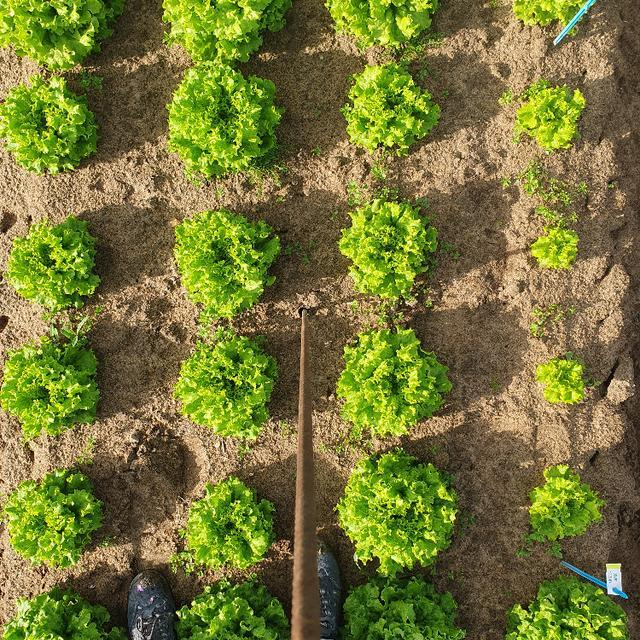Lettuce: (336, 446, 456, 576), (168, 58, 285, 178), (335, 322, 452, 436), (174, 205, 284, 322), (173, 326, 280, 442), (0, 330, 106, 445), (0, 73, 105, 180), (337, 193, 435, 302), (2, 470, 112, 567), (340, 58, 450, 155), (3, 214, 105, 314), (180, 472, 278, 570), (343, 570, 470, 640), (501, 576, 635, 640), (156, 0, 292, 60), (0, 0, 110, 71), (175, 580, 295, 640), (0, 581, 121, 639), (525, 462, 605, 545), (324, 0, 448, 53), (514, 77, 588, 158), (535, 355, 588, 410), (528, 224, 582, 274), (510, 0, 578, 35)
